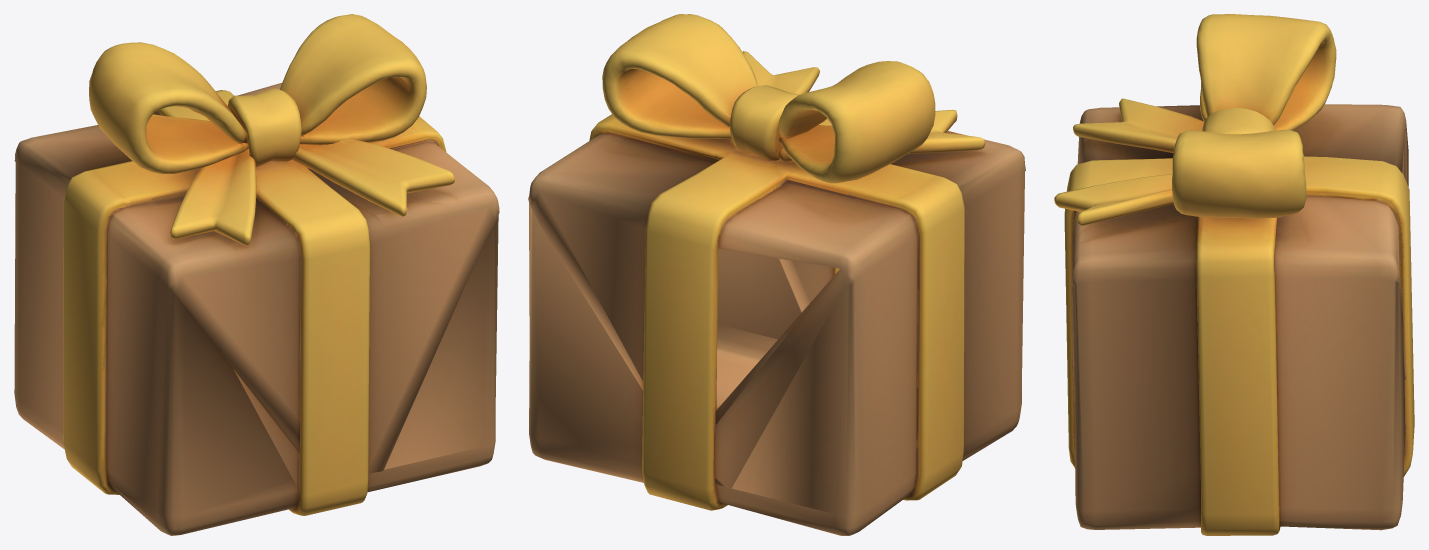
File: gift-parcel.glb
3 views of the same model, side by side, from view 1: azimuth 30°, elevation 25°; view 2: azimuth 150°, elevation 25°; view 3: azimuth 270°, elevation 25° (orthographic). The views are drawn at different scales.
Visible parts, largest first — view 1: Gift Parcel; view 2: Gift Parcel; view 3: Gift Parcel.
Part boxes in pixels (bbox=[...]): Gift Parcel: bbox=[14, 14, 499, 535]; Gift Parcel: bbox=[528, 14, 1025, 535]; Gift Parcel: bbox=[1054, 14, 1414, 535].
Size of the model in its own units: 0.9004 by 0.998 by 0.8262.
Materials: 1 (1 with a texture image).
